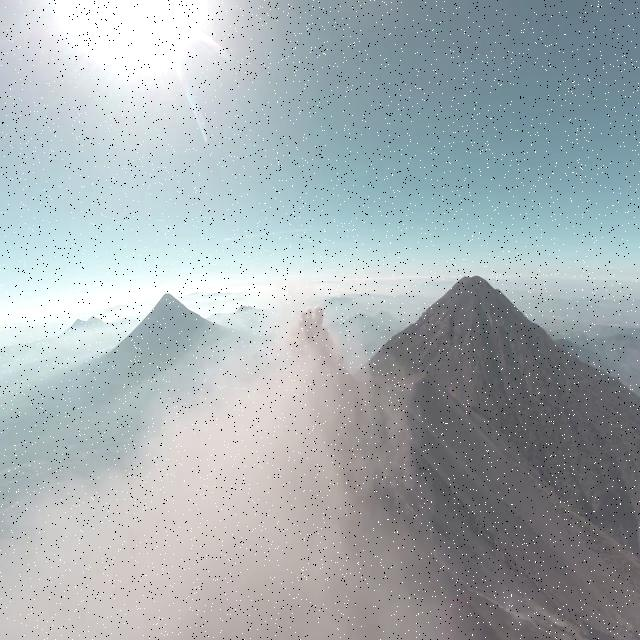Plume: (0, 325, 433, 640), (290, 300, 338, 370)
